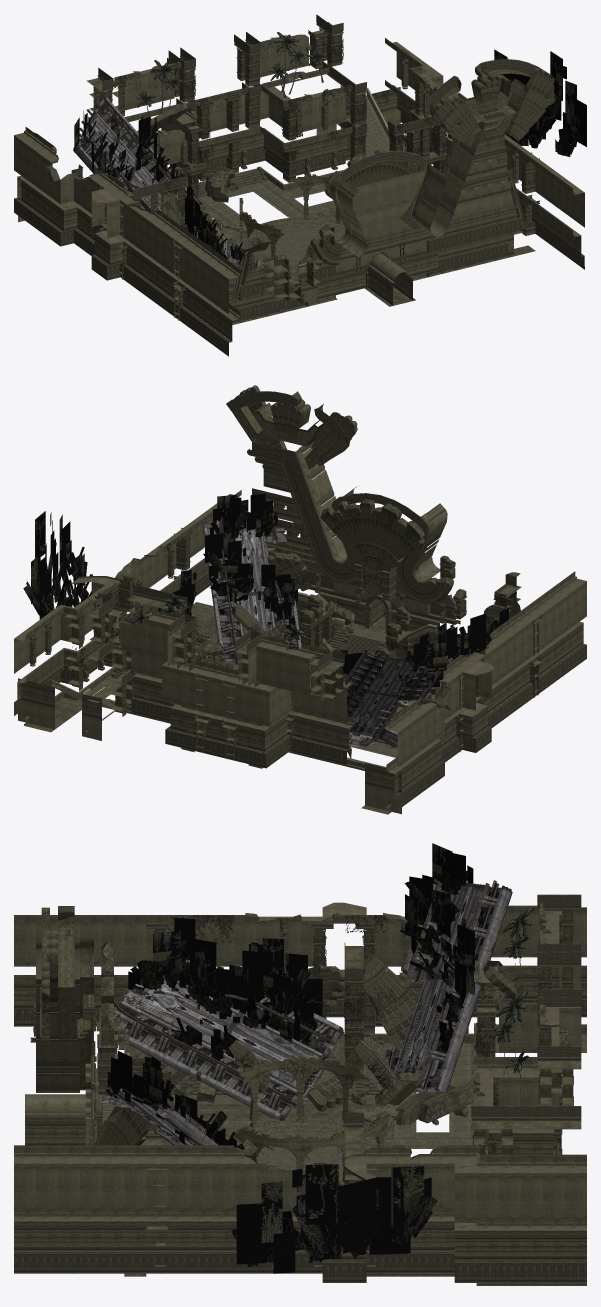
Rendered from map14.fbx.
The picture shows the model from 3 angles, top to bottom: view 1: azimuth 30°, elevation 25°; view 2: azimuth 150°, elevation 25°; view 3: azimuth 270°, elevation 25°; orthographic projection. The views are drawn at different scales.
Parts seen in each view (by area): view 1: 0004_s_hashiraShape, 0011_polySurfaceShape3433688, 0010_polySurfaceShape343514, 0001_tutaShape, 0012_polySurfaceShape343586, 0000_tutaShape, 0005_polySurfaceShape343534, 0016_polySurfaceShape343916, 0006_polySurfaceShape343589, 0008_group1055Shape, 0021_kaidanShape, 0022_kaidan_sideShape (+2 smaller); view 2: 0004_s_hashiraShape, 0011_polySurfaceShape3433688, 0001_tutaShape, 0012_polySurfaceShape343586, 0010_polySurfaceShape343514, 0005_polySurfaceShape343534, 0000_tutaShape, 0006_polySurfaceShape343589, 0007_group1056Shape, 0002_tutaShape, 0008_group1055Shape, 0016_polySurfaceShape343916 (+2 smaller); view 3: 0011_polySurfaceShape3433688, 0001_tutaShape, 0004_s_hashiraShape, 0005_polySurfaceShape343534, 0010_polySurfaceShape343514, 0006_polySurfaceShape343589, 0000_tutaShape, 0012_polySurfaceShape343586, 0016_polySurfaceShape343916, 0021_kaidanShape, 0002_tutaShape, 0023_kageShape.
Boxes of the visible parts, x1,y1,x2,y2 form: 0004_s_hashiraShape: [46, 14, 555, 323]; 0011_polySurfaceShape3433688: [14, 37, 584, 356]; 0010_polySurfaceShape343514: [18, 56, 519, 308]; 0001_tutaShape: [74, 32, 586, 266]; 0012_polySurfaceShape343586: [137, 84, 352, 211]; 0000_tutaShape: [114, 38, 509, 278]; 0005_polySurfaceShape343534: [73, 96, 259, 271]; 0016_polySurfaceShape343916: [198, 179, 535, 324]; 0006_polySurfaceShape343589: [14, 111, 584, 352]; 0008_group1055Shape: [232, 223, 341, 304]; 0021_kaidanShape: [236, 217, 345, 272]; 0022_kaidan_sideShape: [257, 95, 389, 270]; 0004_s_hashiraShape: [38, 385, 541, 760]; 0011_polySurfaceShape3433688: [14, 490, 586, 814]; 0001_tutaShape: [23, 494, 508, 707]; 0012_polySurfaceShape343586: [85, 637, 364, 770]; 0010_polySurfaceShape343514: [18, 441, 515, 814]; 0005_polySurfaceShape343534: [202, 516, 487, 748]; 0000_tutaShape: [35, 505, 516, 748]; 0006_polySurfaceShape343589: [14, 576, 586, 806]; 0007_group1056Shape: [131, 697, 348, 764]; 0002_tutaShape: [213, 594, 411, 661]; 0008_group1055Shape: [427, 555, 521, 652]; 0016_polySurfaceShape343916: [77, 616, 432, 769]; 0011_polySurfaceShape3433688: [14, 902, 586, 1285]; 0001_tutaShape: [107, 843, 533, 1273]; 0004_s_hashiraShape: [40, 894, 581, 1266]; 0005_polySurfaceShape343534: [96, 878, 512, 1145]; 0010_polySurfaceShape343514: [25, 920, 490, 1181]; 0006_polySurfaceShape343589: [14, 999, 586, 1277]; 0000_tutaShape: [116, 915, 561, 1185]; 0012_polySurfaceShape343586: [474, 969, 559, 1155]; 0016_polySurfaceShape343916: [102, 1043, 475, 1276]; 0021_kaidanShape: [225, 1118, 392, 1184]; 0002_tutaShape: [114, 1017, 468, 1133]; 0023_kageShape: [146, 1037, 382, 1094].
Size of what is drawn, in the model's own units: 177 by 81.94 by 135.
